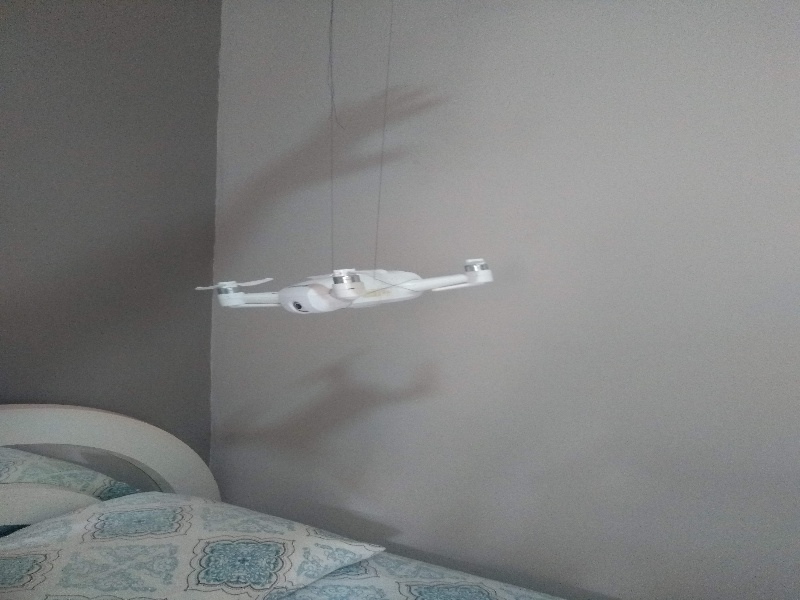drone: (193, 243, 501, 324)
